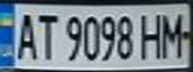0: (81, 11, 100, 62)
8: (115, 11, 139, 61)
9: (60, 11, 84, 62), (100, 11, 118, 62)
A: (9, 9, 39, 61)
H: (136, 10, 166, 60)
M: (157, 8, 190, 59)
T: (33, 9, 60, 61)
